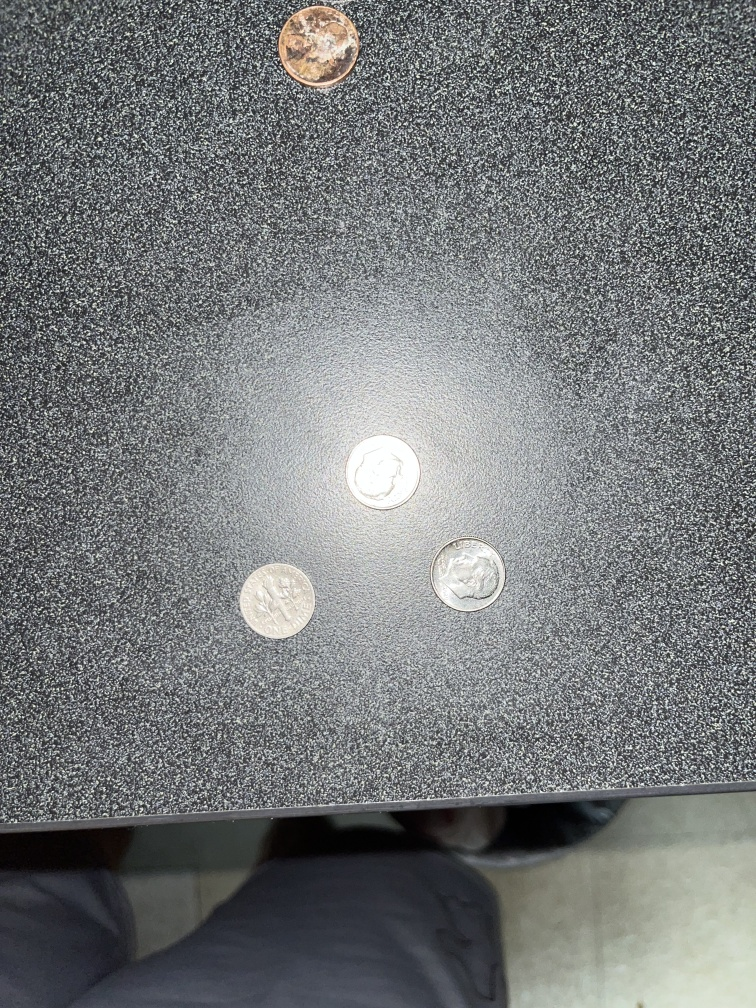dime: (427, 533, 511, 623), (342, 429, 424, 521), (236, 560, 322, 645)
penny: (276, 3, 363, 88)
